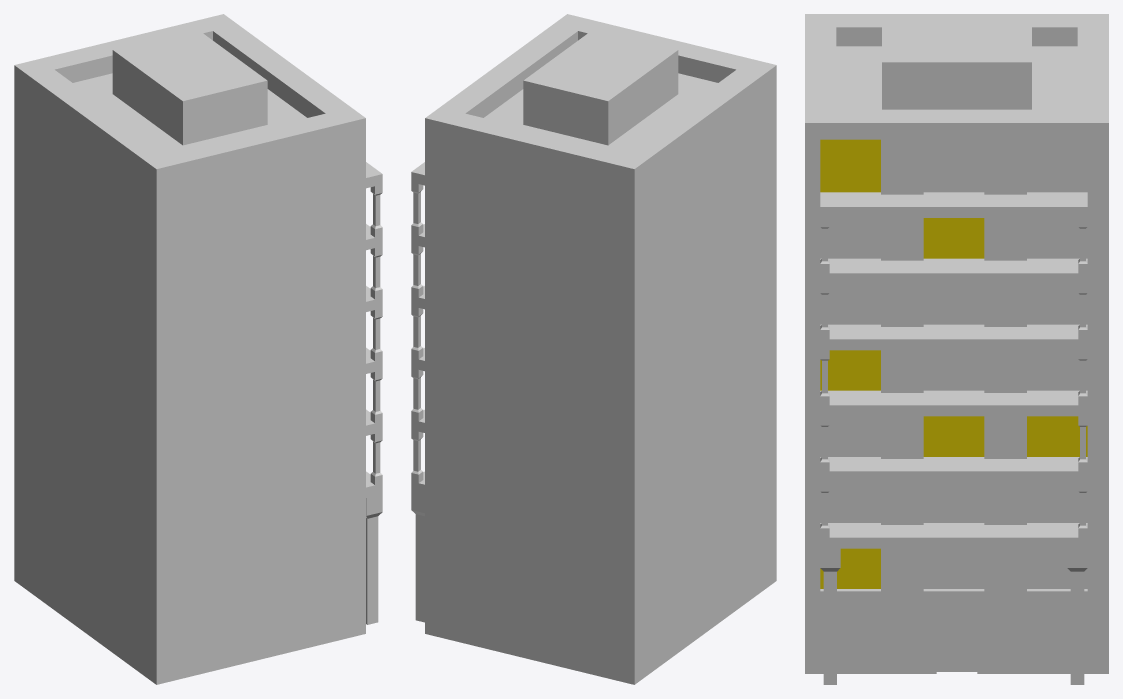
File: flat.fbx
3 renders of one model, left to right at view 1: azimuth 30°, elevation 25°; view 2: azimuth 150°, elevation 25°; view 3: azimuth 270°, elevation 25°, orthographic. The views are drawn at different scales.
Visible parts, largest first — view 1: Flat; view 2: Flat; view 3: Flat.
Boxes of the visible parts, bbox=[...] form: Flat: bbox=[14, 14, 382, 684]; Flat: bbox=[411, 14, 776, 684]; Flat: bbox=[805, 14, 1108, 684].
Size of the model in its own units: 1894 by 4205 by 2000.
